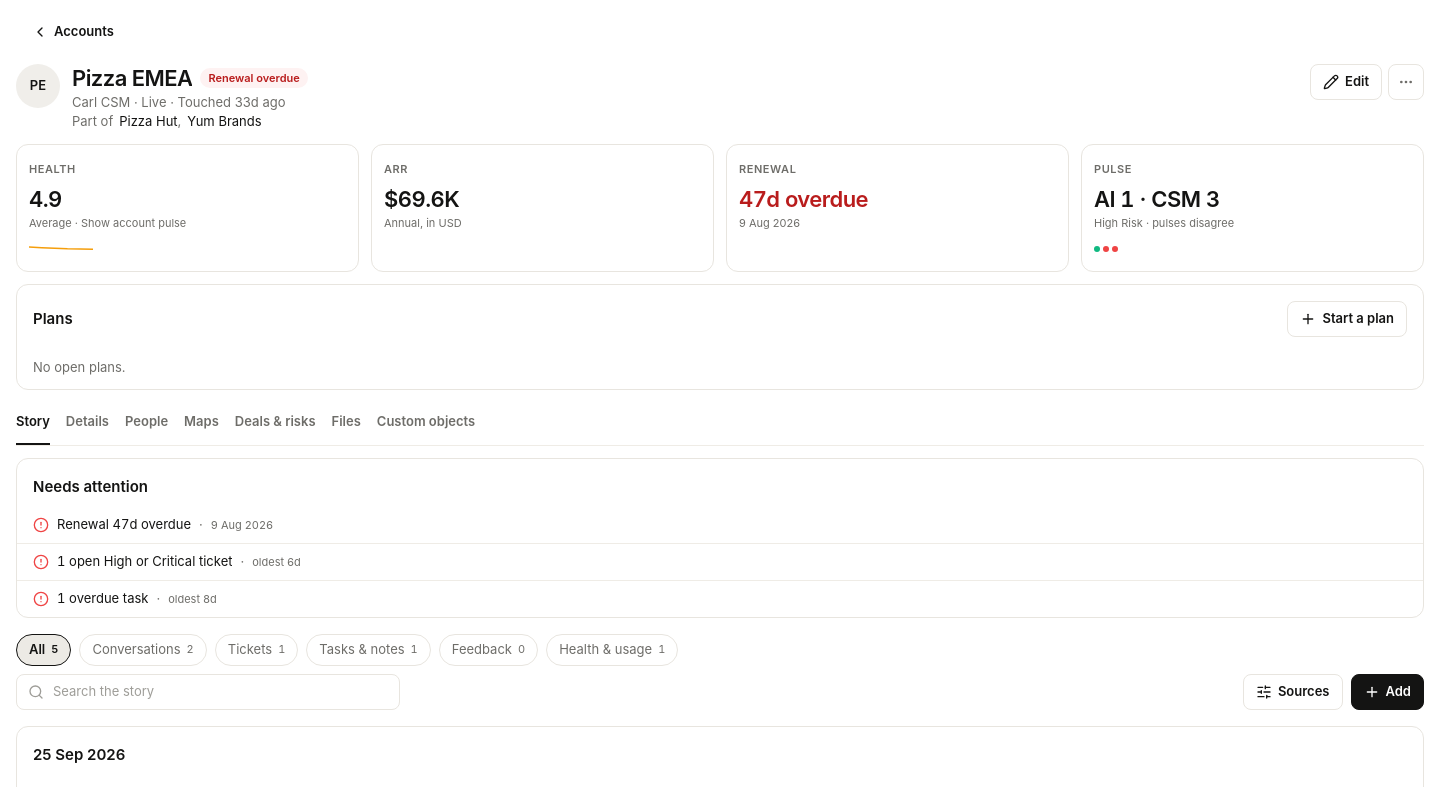
Test: the account page (/accounts/:id) › Edit saves through the first organisation, and the page reads the account again
Click the button "Edit". click: (1346, 82)
box: x1=1310 y1=64 x2=1382 y2=100
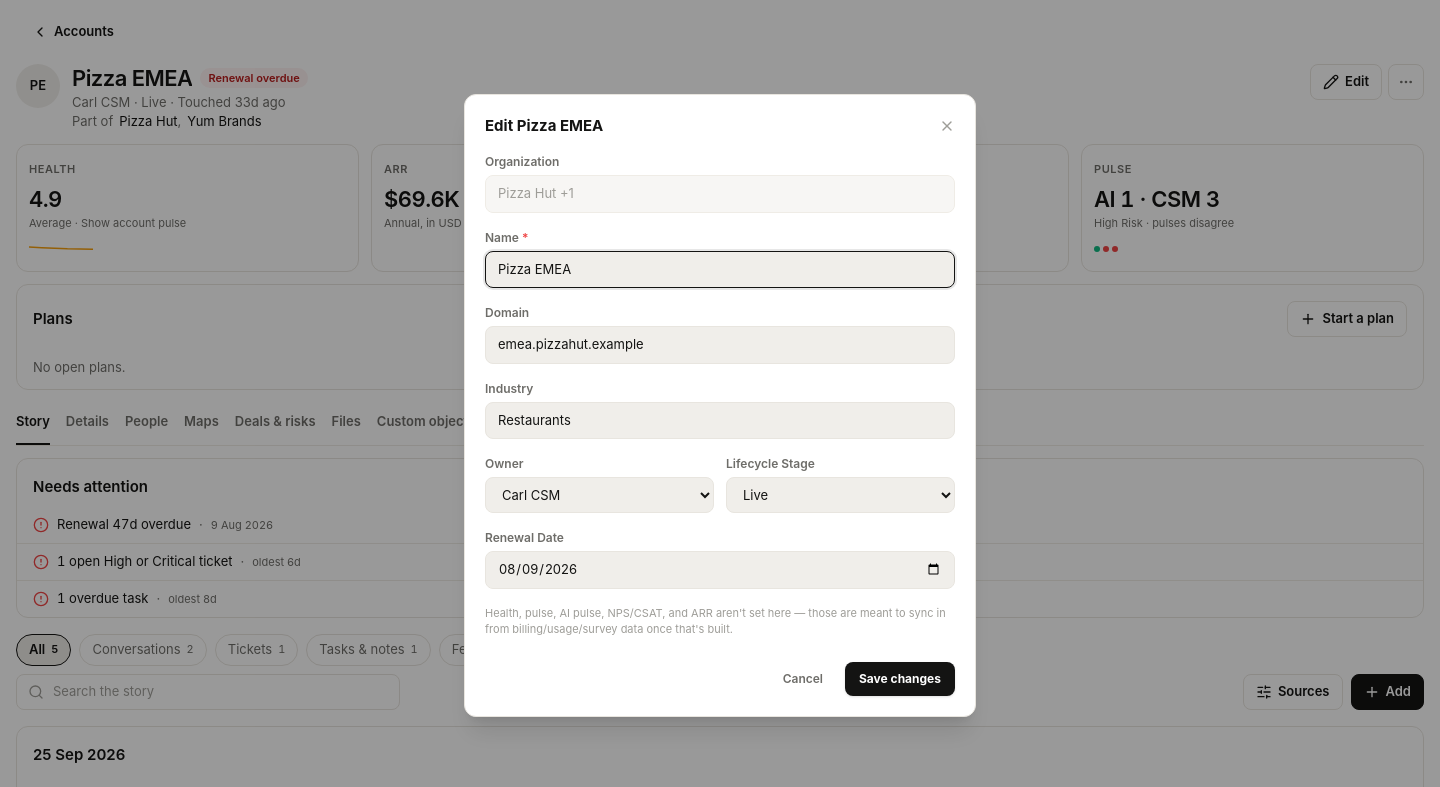
expect the heading "Edit Pizza EMEA" is shown: met, box x1=485 y1=114 x2=603 y2=137
Replace the text in the field labelled "Name *" with "Pizza Europe". click: (720, 269)
box: x1=485 y1=250 x2=955 y2=288
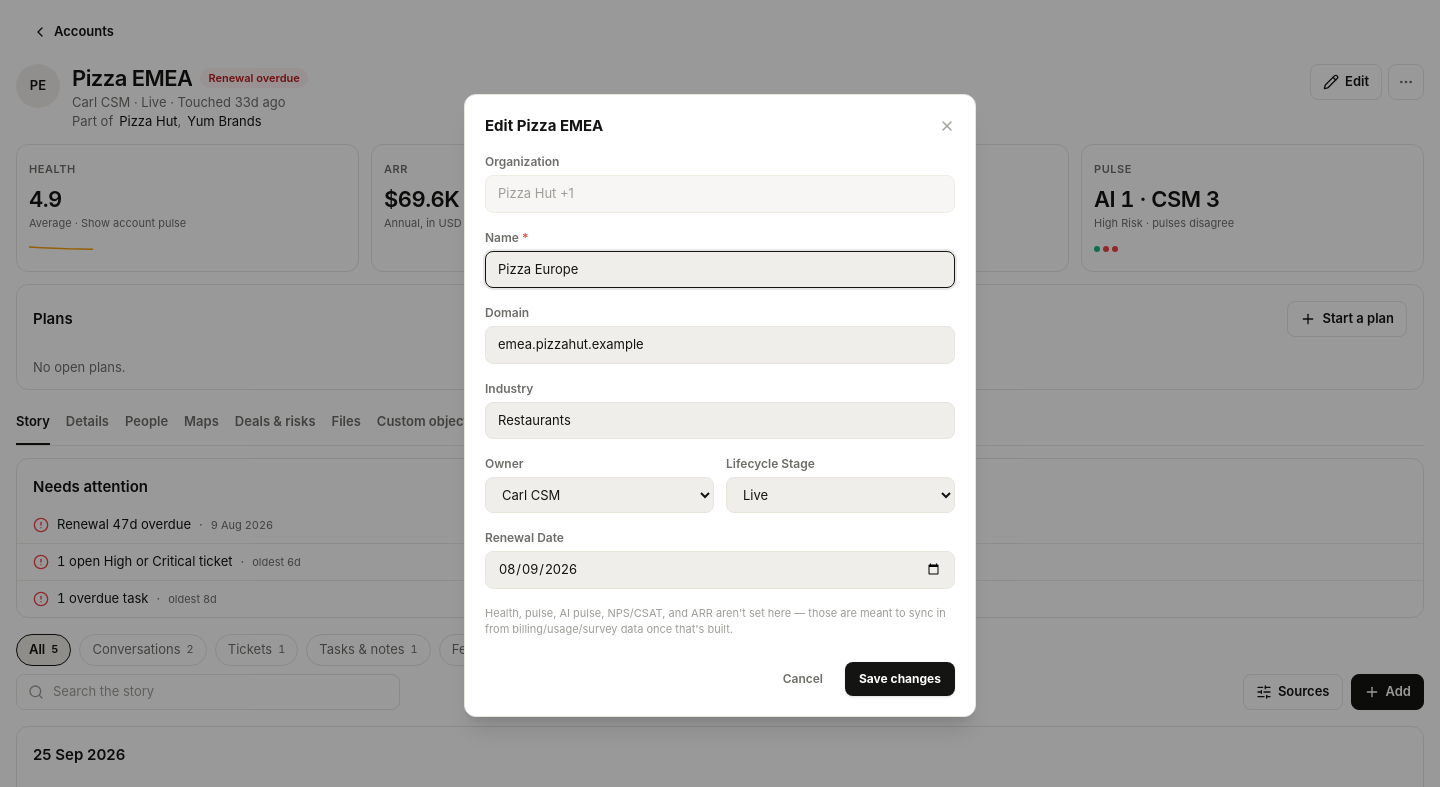
Click the button "Save changes". click: (900, 678)
box: x1=845 y1=662 x2=955 y2=696
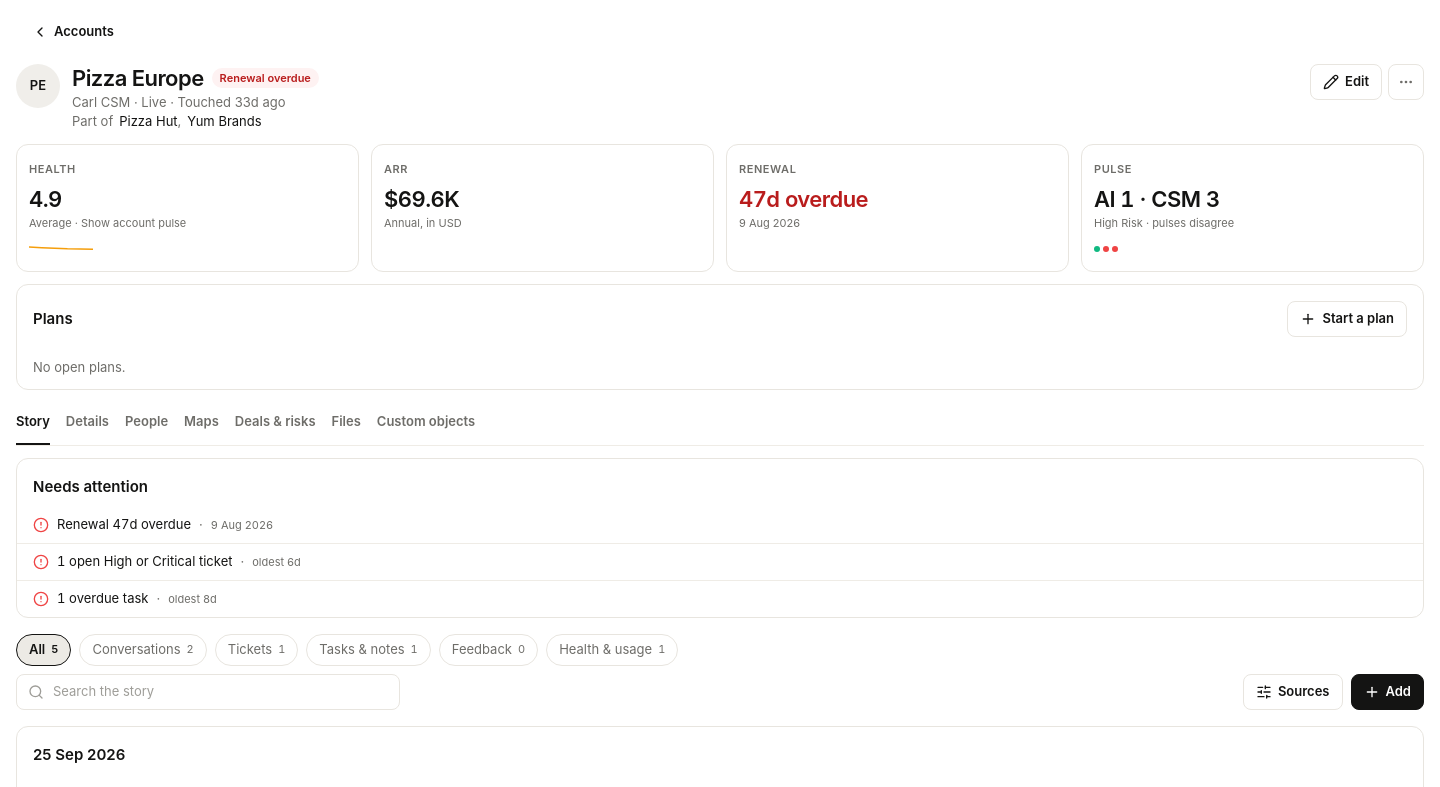
expect the heading "Pizza Europe" is shown: met, box x1=72 y1=64 x2=204 y2=92
